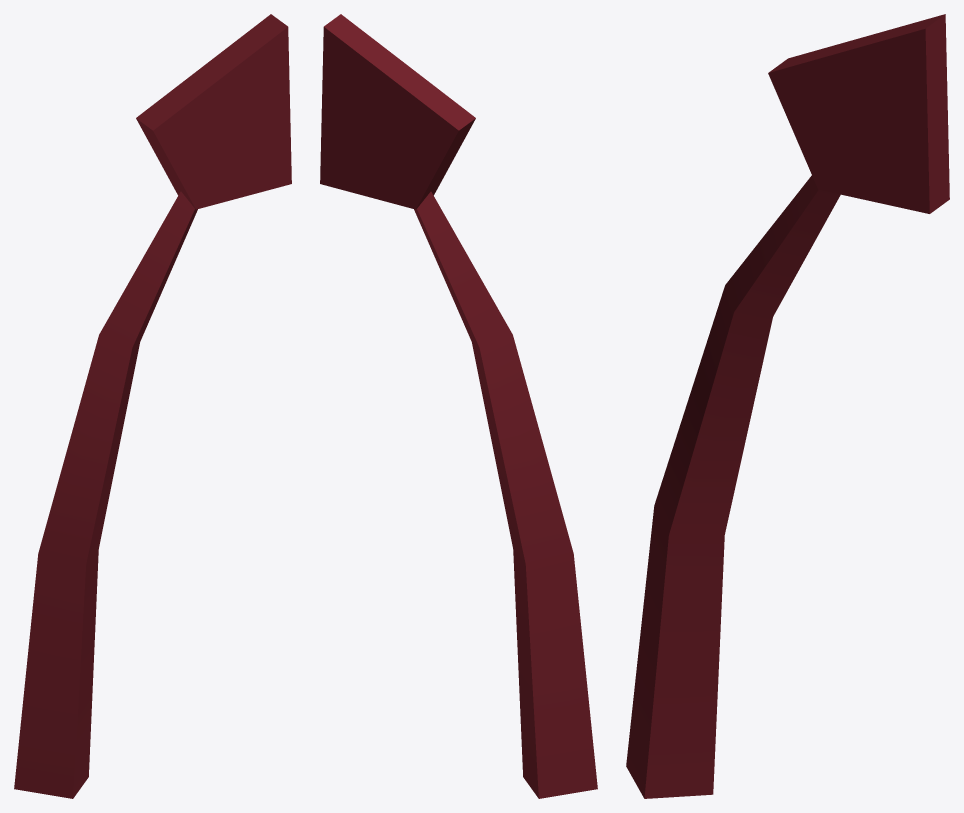
The model's file is dressing_tail_tip_mobile.glb.
3 renders of one model, left to right at view 1: azimuth 30°, elevation 25°; view 2: azimuth 150°, elevation 25°; view 3: azimuth 330°, elevation 25°, orthographic. The views are drawn at different scales.
Parts seen in each view (by area): view 1: dressing_tail_tip_mobile; view 2: dressing_tail_tip_mobile; view 3: dressing_tail_tip_mobile.
Part boxes in pixels (x1,y1,x2,y2): dressing_tail_tip_mobile: [14, 14, 291, 798]; dressing_tail_tip_mobile: [320, 14, 597, 798]; dressing_tail_tip_mobile: [626, 14, 949, 798].
Size of the model in its own units: 0.0632 by 0.1593 by 0.0176.
